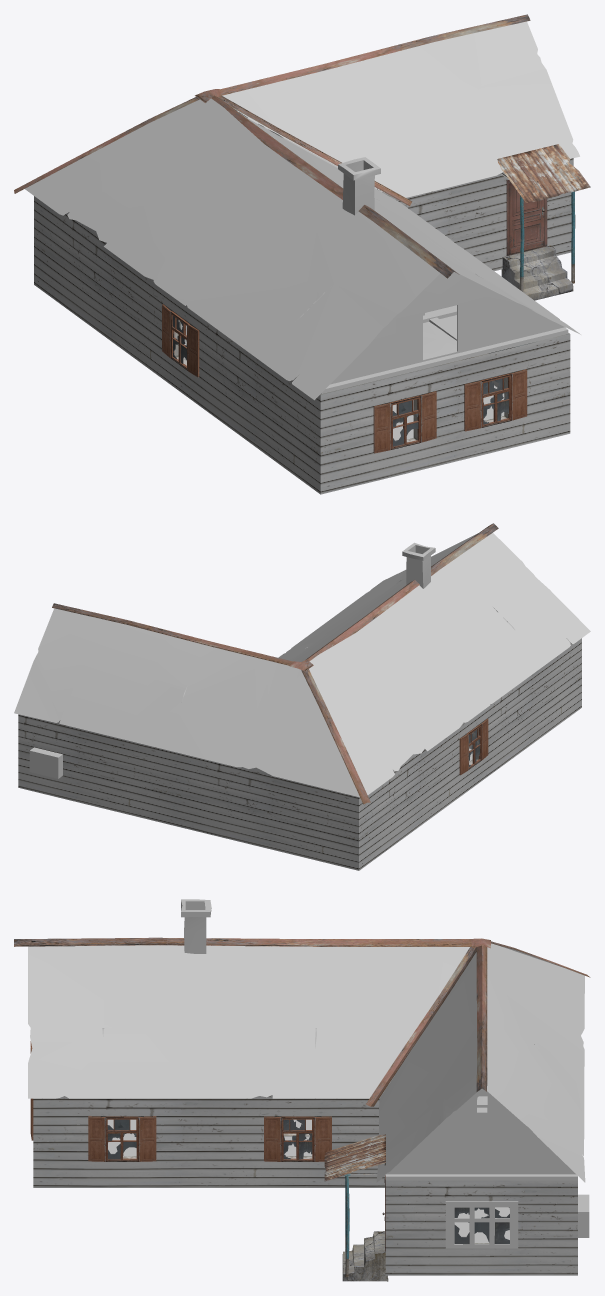
File: Houses_Ready_05_Form2.FBX
3 renders of one model, top to bottom at view 1: azimuth 30°, elevation 25°; view 2: azimuth 150°, elevation 25°; view 3: azimuth 270°, elevation 25°, orthographic. The views are drawn at different scales.
Parts seen in each view (by area): view 1: Roof_01_Form2, Corps_02_5, Attic_04_Form2, Peak_03_Form2, Porch_02_1, Windows_06 (×2), Porch_02_2, Windows_06_2, Door_04, Chimney_03; view 2: Roof_01_Form2, Corps_02_5, Peak_03_Form2, Chimney_03, Windows_06, Electrical_Box_03; view 3: Roof_01_Form2, Corps_02_5, Attic_04_Form2, Peak_03_Form2, Windows_06_2, Porch_02_1, Windows_Big_01, Windows_06, Porch_02_2, Chimney_03, Electrical_Box_03.
Part boxes in pixels (x1,y1,x2,y2): Roof_01_Form2: (25, 21, 580, 400); Corps_02_5: (34, 158, 573, 494); Attic_04_Form2: (231, 107, 568, 393); Peak_03_Form2: (14, 14, 530, 278); Porch_02_1: (497, 144, 590, 291); Windows_06 (×2): (162, 304, 527, 431); Porch_02_2: (501, 245, 573, 300); Windows_06_2: (373, 391, 436, 453); Door_04: (509, 181, 544, 254); Chimney_03: (338, 157, 380, 215); Roof_01_Form2: (14, 533, 590, 797); Corps_02_5: (18, 638, 581, 870); Peak_03_Form2: (52, 523, 498, 804); Chimney_03: (402, 542, 435, 588); Windows_06: (459, 718, 488, 775); Electrical_Box_03: (29, 747, 62, 778); Roof_01_Form2: (28, 943, 585, 1182); Corps_02_5: (33, 1090, 577, 1275); Attic_04_Form2: (40, 1024, 577, 1180); Peak_03_Form2: (14, 937, 590, 1106); Windows_06_2: (88, 1116, 156, 1161); Porch_02_1: (324, 1134, 385, 1276); Windows_Big_01: (445, 1201, 518, 1248); Windows_06: (264, 1116, 331, 1161); Porch_02_2: (342, 1231, 388, 1281); Chimney_03: (181, 899, 211, 953); Electrical_Box_03: (578, 1194, 589, 1237).
Bounding box in the file's own units: 1497 × 1708 × 786.
